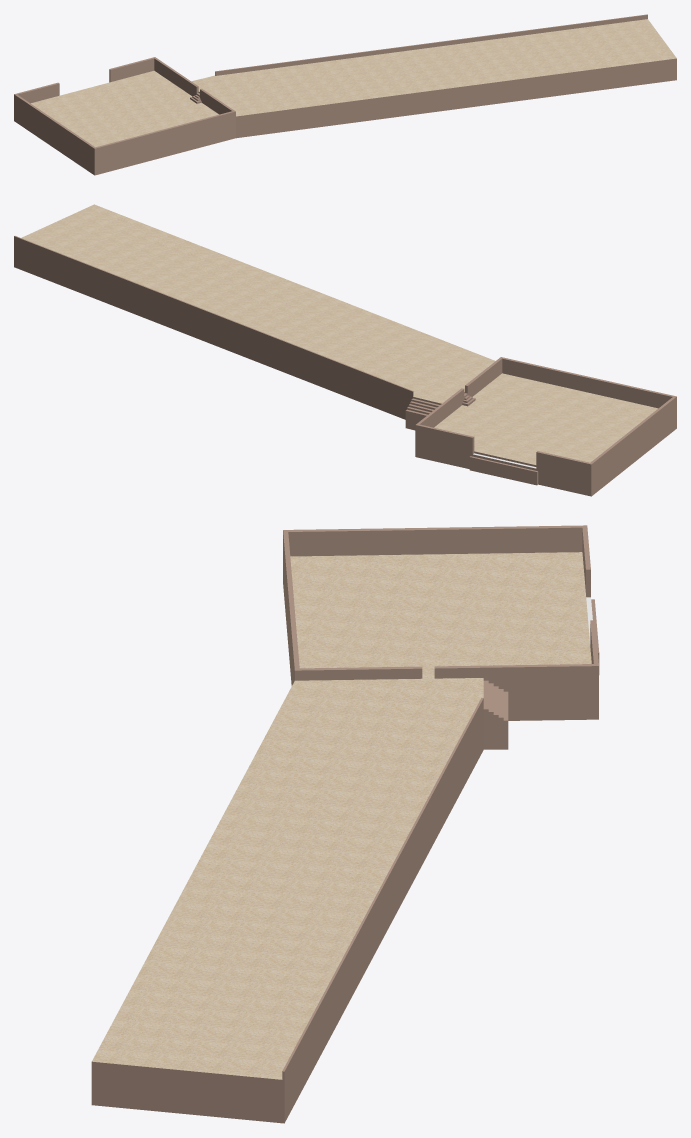
File: aiakeion.fbx
The picture shows the model from 3 angles, top to bottom: view 1: azimuth 30°, elevation 25°; view 2: azimuth 150°, elevation 25°; view 3: azimuth 270°, elevation 25°; orthographic projection. The views are drawn at different scales.
Parts seen in each view (by area): view 1: Group1; view 2: Group1; view 3: Group1.
Part boxes in pixels (<box>): Group1: <box>14,14,676,175</box>; Group1: <box>14,204,676,496</box>; Group1: <box>91,525,599,1123</box>.
Bounding box in the file's own units: 122512 × 5623 × 48265.
